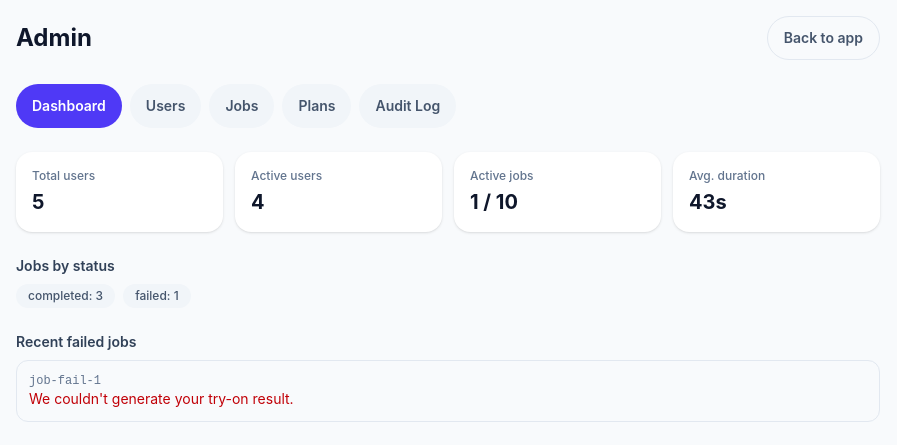
AdminScreen — users tab › shows an action error without losing the list on a failed disable attempt
What coordinates should you click on to do the following:
click the button "users"
I would click on:
 (166, 106)
Its box is x1=130 y1=84 x2=201 y2=128.
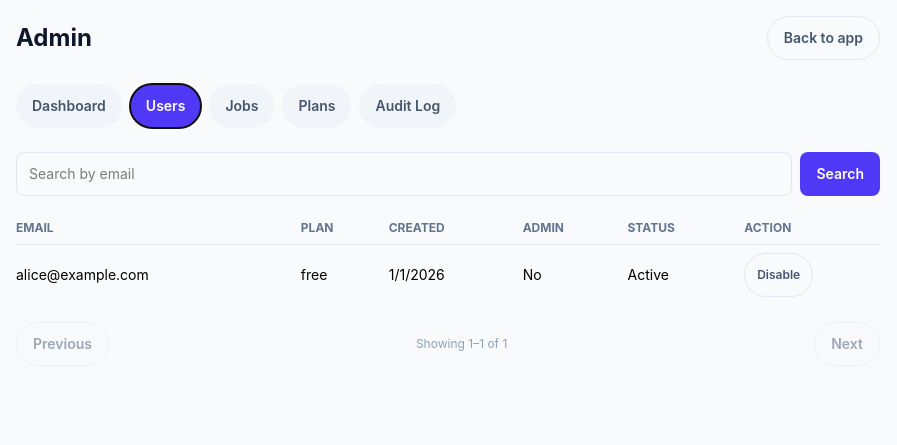
Check: the text "alice@example.com" is shown, box x1=16 y1=244 x2=301 y2=306
What coordinates should you click on to do the following:
click the button "Disable"
I would click on:
 (779, 275)
Its box is x1=744 y1=253 x2=813 y2=297.
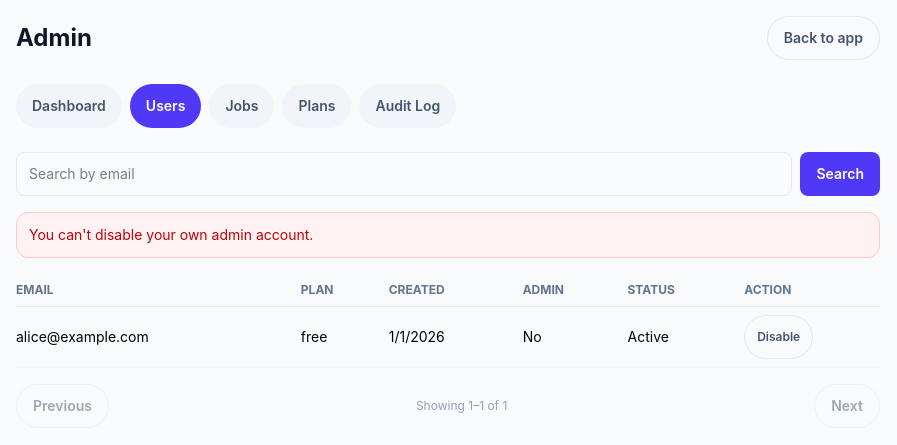
Check: the text "alice@example.com" is shown, box x1=16 y1=306 x2=301 y2=368
Check: the message reads "You can't disable your own admin account.", box x1=29 y1=226 x2=313 y2=243
